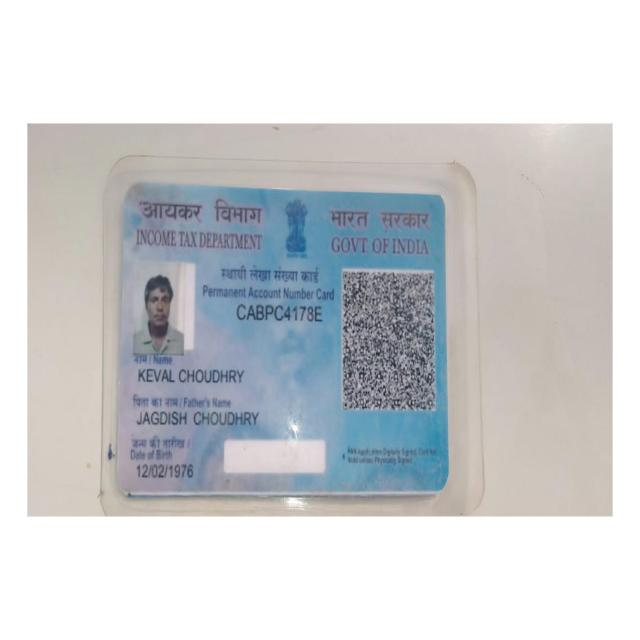pan_card: (121, 191, 447, 496)
